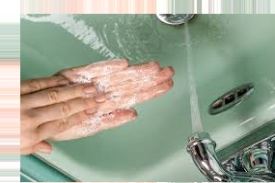washing hand: (41, 25, 270, 173)
